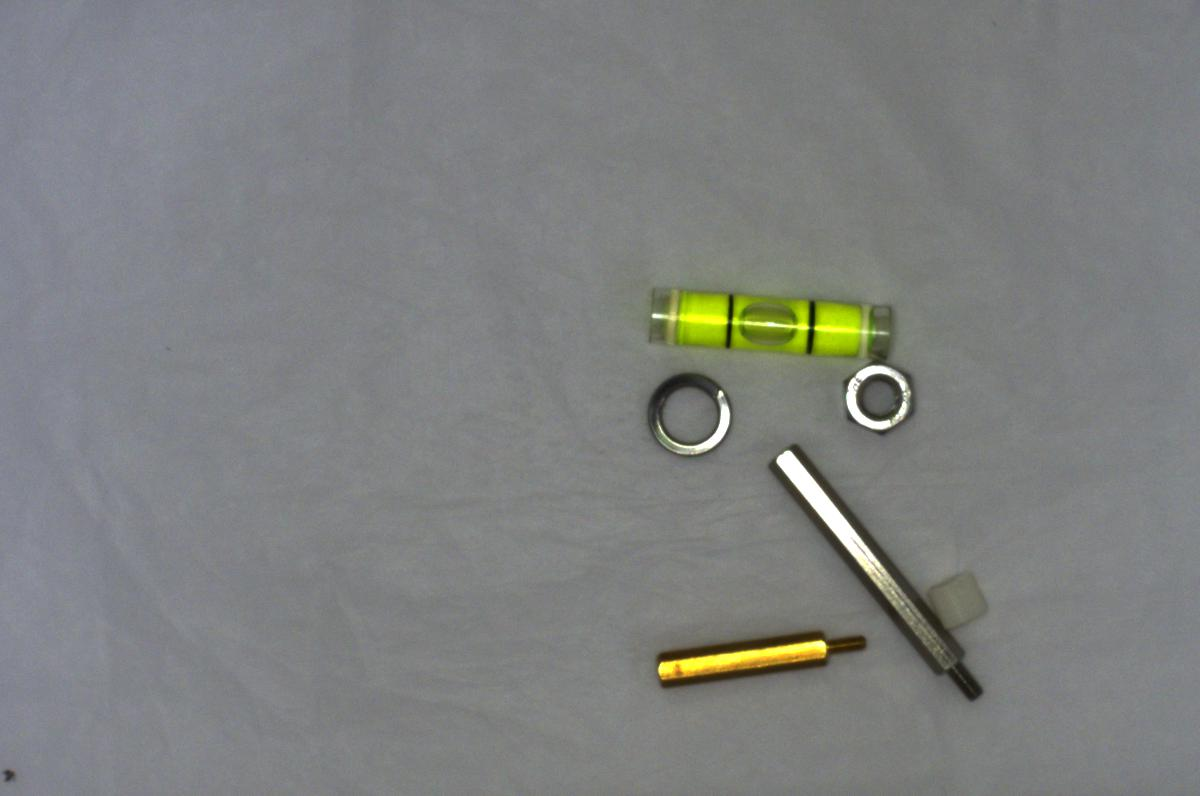Hexagon nut: (834, 351, 921, 439)
Hexagon pillar: (643, 612, 869, 696)
Hexagonal steel column: (762, 437, 989, 713)
Horizontal bubble: (635, 269, 902, 360)
Plastic cushion pillar: (926, 558, 1001, 636)
Spring washer: (641, 363, 733, 464)
